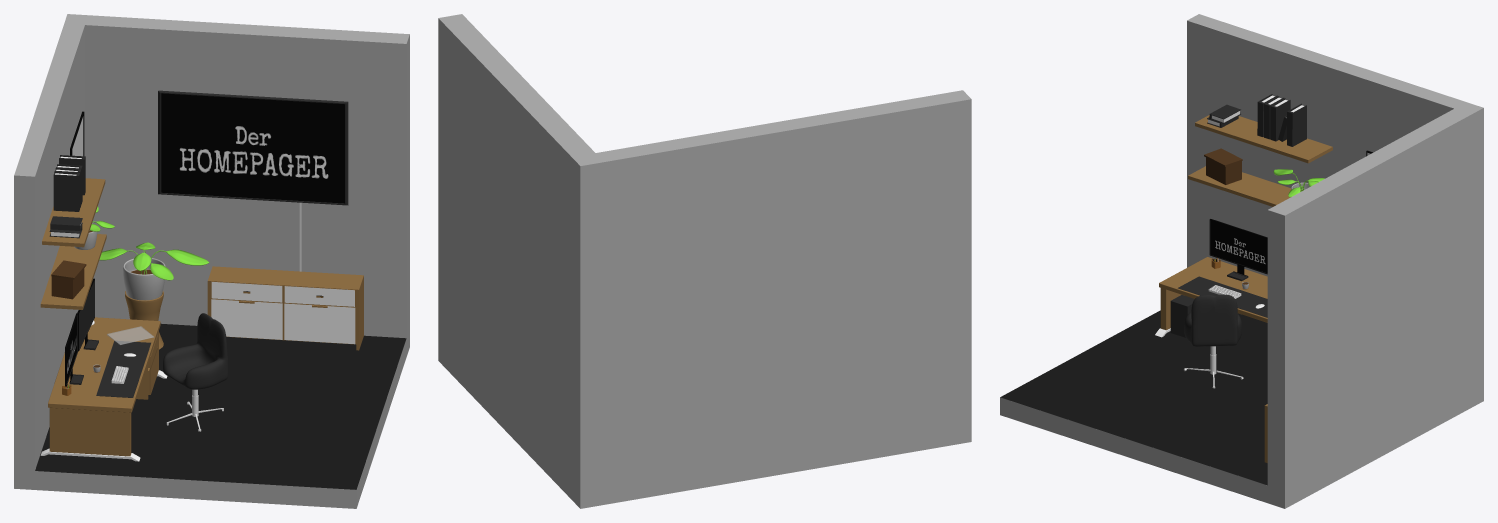
Rendered from alphago.glb.
3 renders of one model, left to right at view 1: azimuth 30°, elevation 25°; view 2: azimuth 150°, elevation 25°; view 3: azimuth 270°, elevation 25°, orthographic. The views are drawn at different scales.
Visible parts, largest first — view 1: Floorobj.001, tv.003, last.001, tabletop.001, tablelegs.001, chair.001, mousepad.001, tv.002, Cube.090, shelftop.008, flpot.003, Cube.091 (+8 smaller); view 2: Floorobj.001; view 3: Floorobj.001, chair.001, tabletop.001, shelftop.008, monitor.005, Cube.090, mousepad.001, Cube.091, shelftop.015, pc.001, shelftop.013.
Part boxes in pixels (box(x1,y1,x2,y2)): Floorobj.001: box(14, 14, 409, 508); tv.003: box(161, 93, 344, 203); last.001: box(207, 266, 363, 350); tabletop.001: box(48, 317, 160, 412); tablelegs.001: box(49, 331, 158, 456); chair.001: box(163, 313, 227, 389); mousepad.001: box(96, 341, 150, 397); tv.002: box(158, 90, 348, 205); Cube.090: box(40, 234, 106, 309); shelftop.008: box(42, 178, 105, 247); flpot.003: box(123, 258, 165, 300); Cube.091: box(51, 260, 86, 299); Floorobj.001: box(438, 14, 971, 508); Floorobj.001: box(1000, 14, 1483, 508); chair.001: box(1184, 294, 1241, 346); tabletop.001: box(1159, 257, 1267, 322); shelftop.008: box(1195, 115, 1332, 163); monitor.005: box(1210, 220, 1267, 273); Cube.090: box(1188, 166, 1291, 206); mousepad.001: box(1178, 276, 1267, 317); Cube.091: box(1204, 148, 1242, 184); shelftop.015: box(1287, 103, 1306, 146); pc.001: box(1170, 295, 1194, 337); shelftop.013: box(1270, 98, 1290, 141).
Bounding box in the file's own units: 23.94 × 16.23 × 24.26.
Materials: 16 (1 with a texture image).
